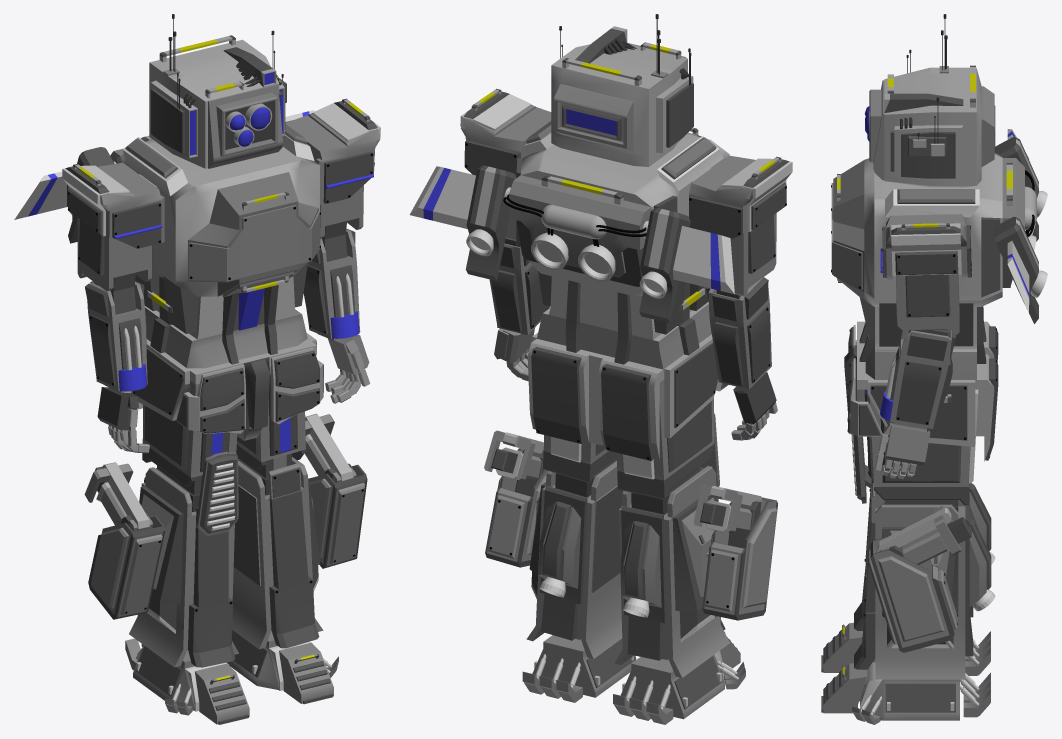
The model's file is Arming Cage Titan Frame.fbx.
The picture shows the model from 3 angles, left to right: view 1: azimuth 30°, elevation 25°; view 2: azimuth 150°, elevation 25°; view 3: azimuth 270°, elevation 25°; orthographic projection. The views are drawn at different scales.
Visible parts, largest first — view 1: Titan_Frame_Posed; view 2: Titan_Frame_Posed; view 3: Titan_Frame_Posed.
Part boxes in pixels (x1,y1,x2,y2): Titan_Frame_Posed: (14,14,380,724); Titan_Frame_Posed: (409,14,792,724); Titan_Frame_Posed: (821,14,1047,724).
Bounding box in the file's own units: 6.99 × 14.21 × 4.47.
